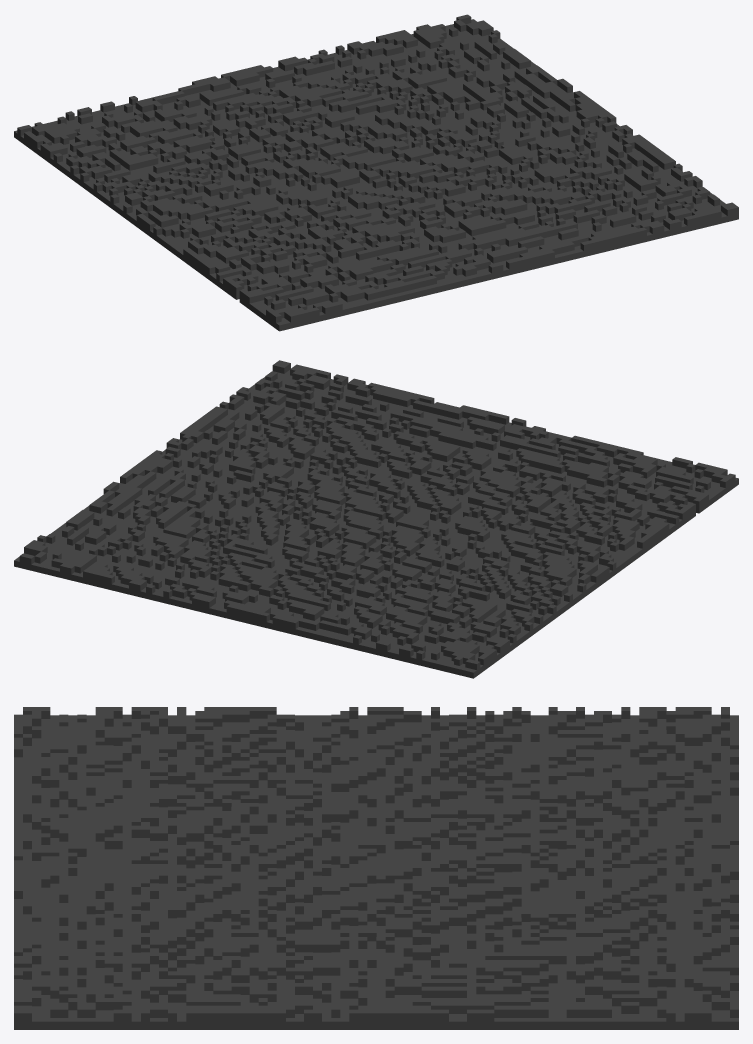
File: Ground 1.obj
3 views of the same model, one above another, from view 1: azimuth 30°, elevation 25°; view 2: azimuth 150°, elevation 25°; view 3: azimuth 270°, elevation 25° (orthographic). The views are drawn at different scales.
Parts seen in each view (by area): view 1: Ground; view 2: Ground; view 3: Ground.
Part boxes in pixels (left/top/right/bottom): Ground: left=14, top=14, right=738, bottom=331; Ground: left=14, top=360, right=738, bottom=678; Ground: left=14, top=707, right=738, bottom=1029.
Bounding box in the file's own units: 80 × 2 × 80.
1 material, 1 textured.
